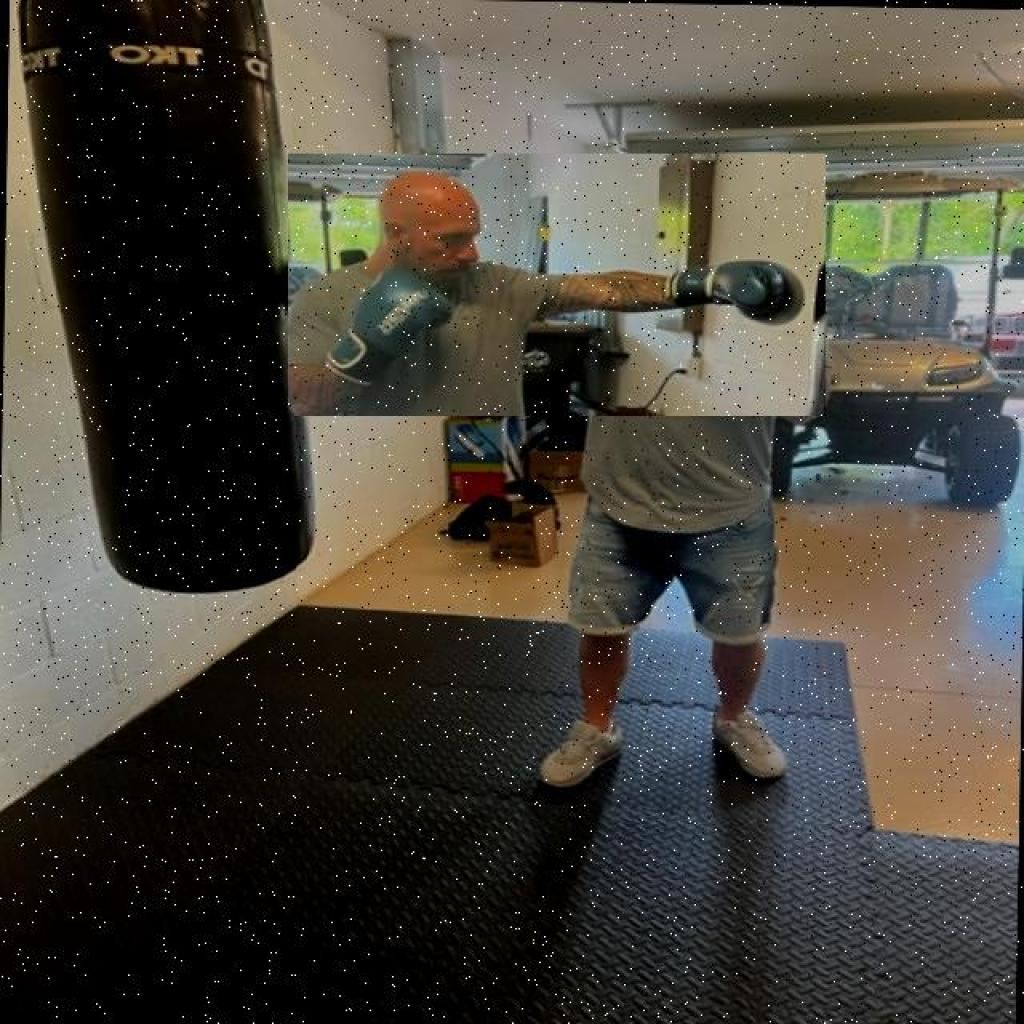jab: (288, 154, 826, 416)
